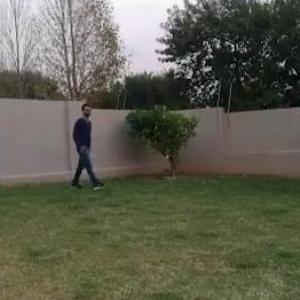follow: (72, 103, 95, 196)
